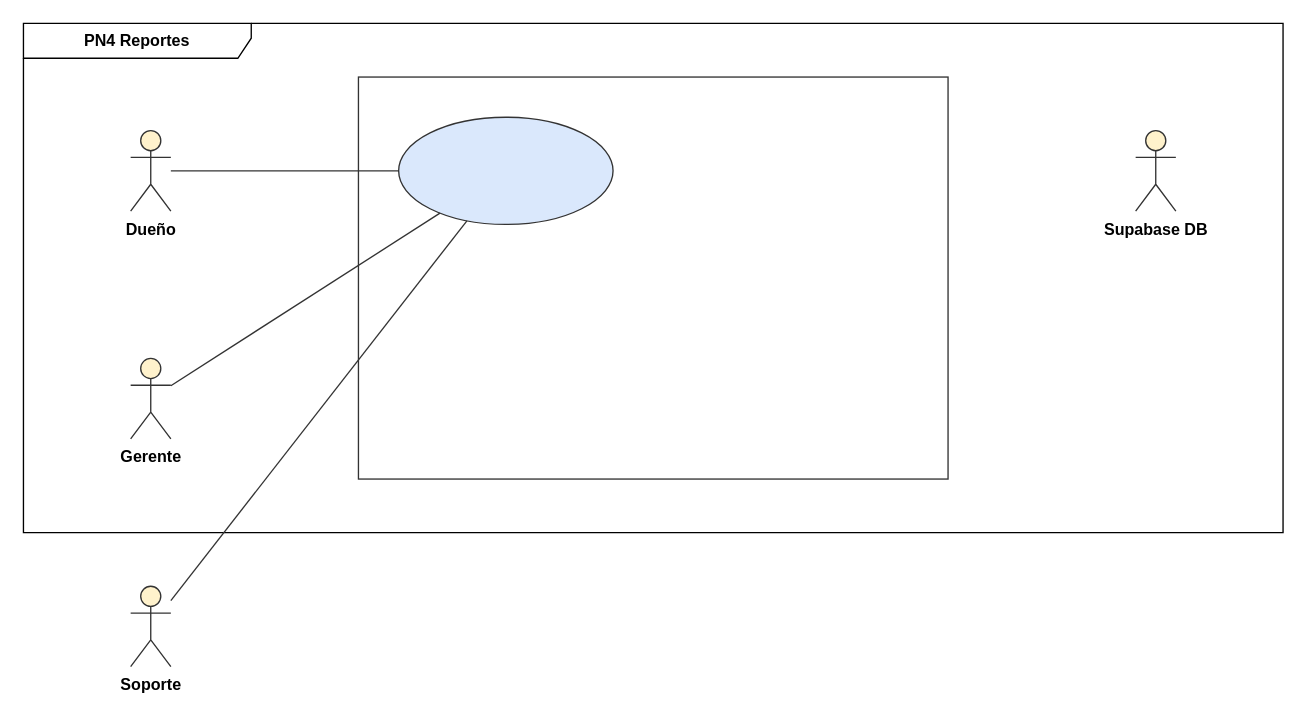
The diagram is 1307 pixels wide and 718 high, and some of its shapes have lost their labels. Each missing label, with the box of its shape:
CU-06 Consultar y exportar: (397, 116, 613, 224)
PayAlert · reportes: (357, 76, 948, 479)
